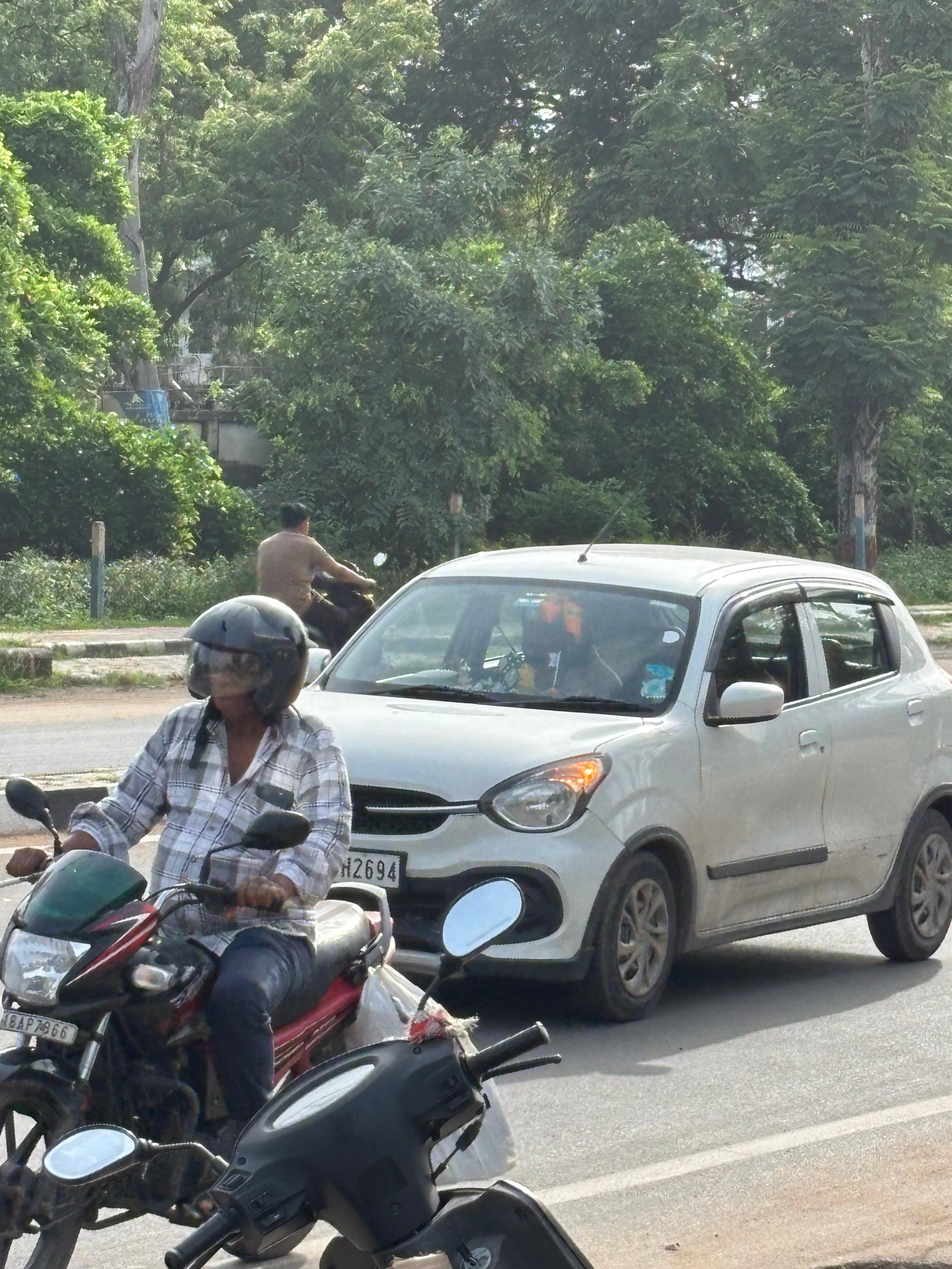BikeWithRider: (0, 589, 491, 1269), (244, 494, 400, 648)
Helmet: (174, 587, 320, 737)
NoHelmet: (273, 499, 318, 538)
